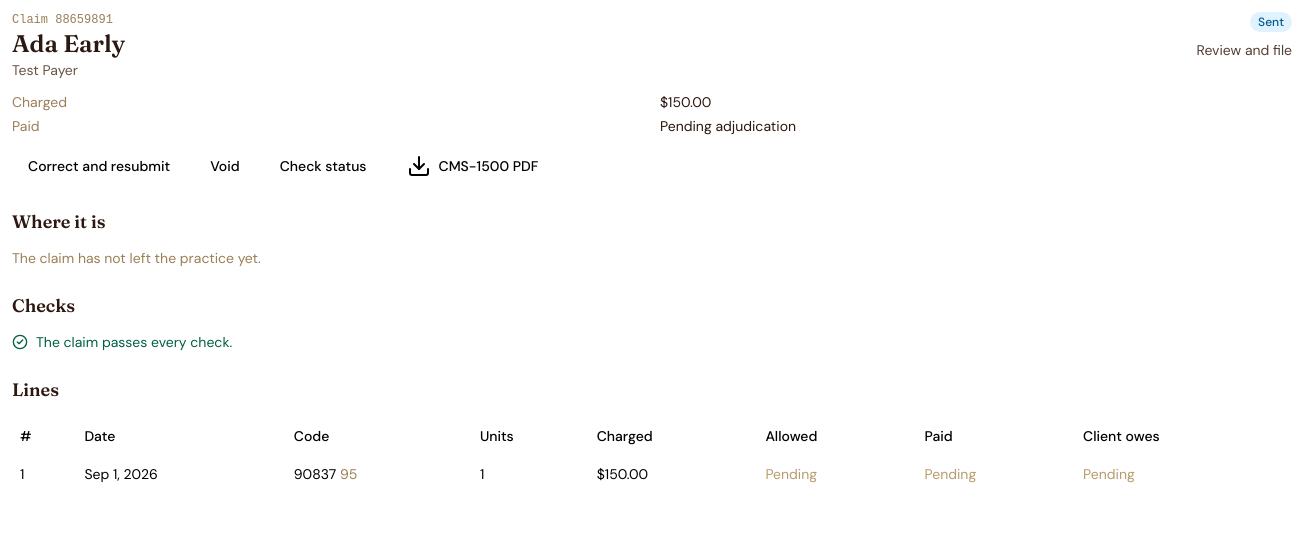
Test: ClaimDetail › says next to the claim when the clearinghouse cannot be asked
The image size is (1304, 556).
Click the button with test id "check-status".
click(323, 166)  # box left=264, top=148, right=382, bottom=184
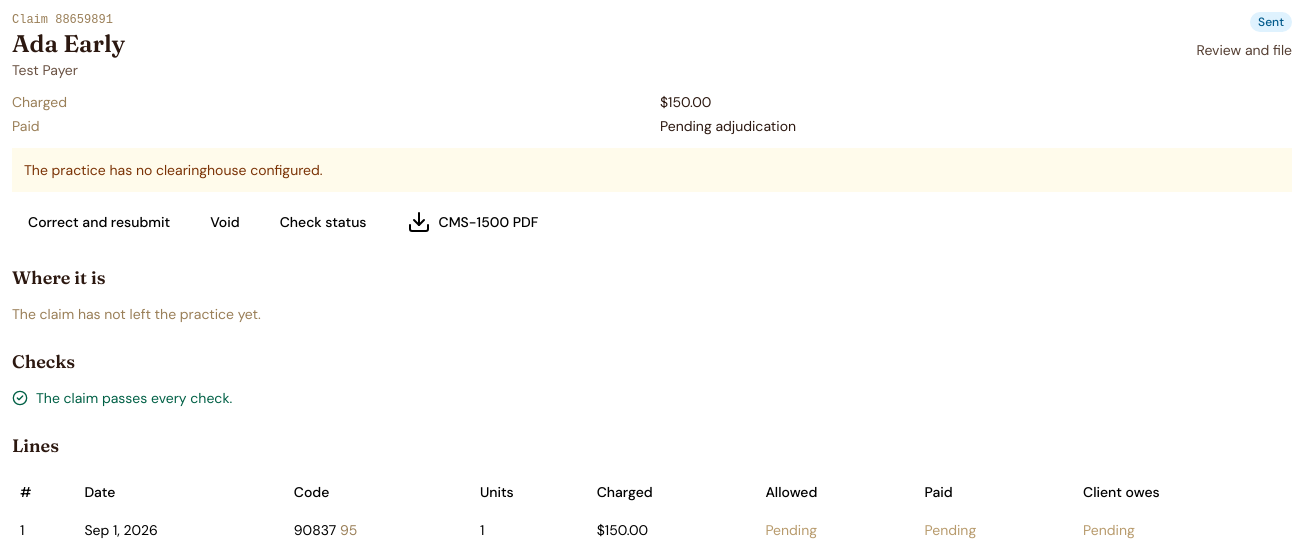
Expected: the text with test id "clearinghouse-unavailable" reads "The practice has no clearinghouse configured.", left=24, top=161, right=323, bottom=179
